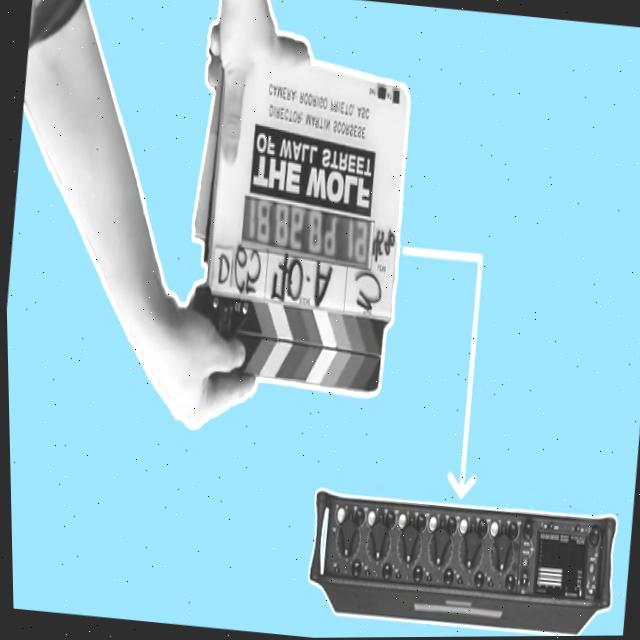Clapperboard: (175, 54, 424, 399)
